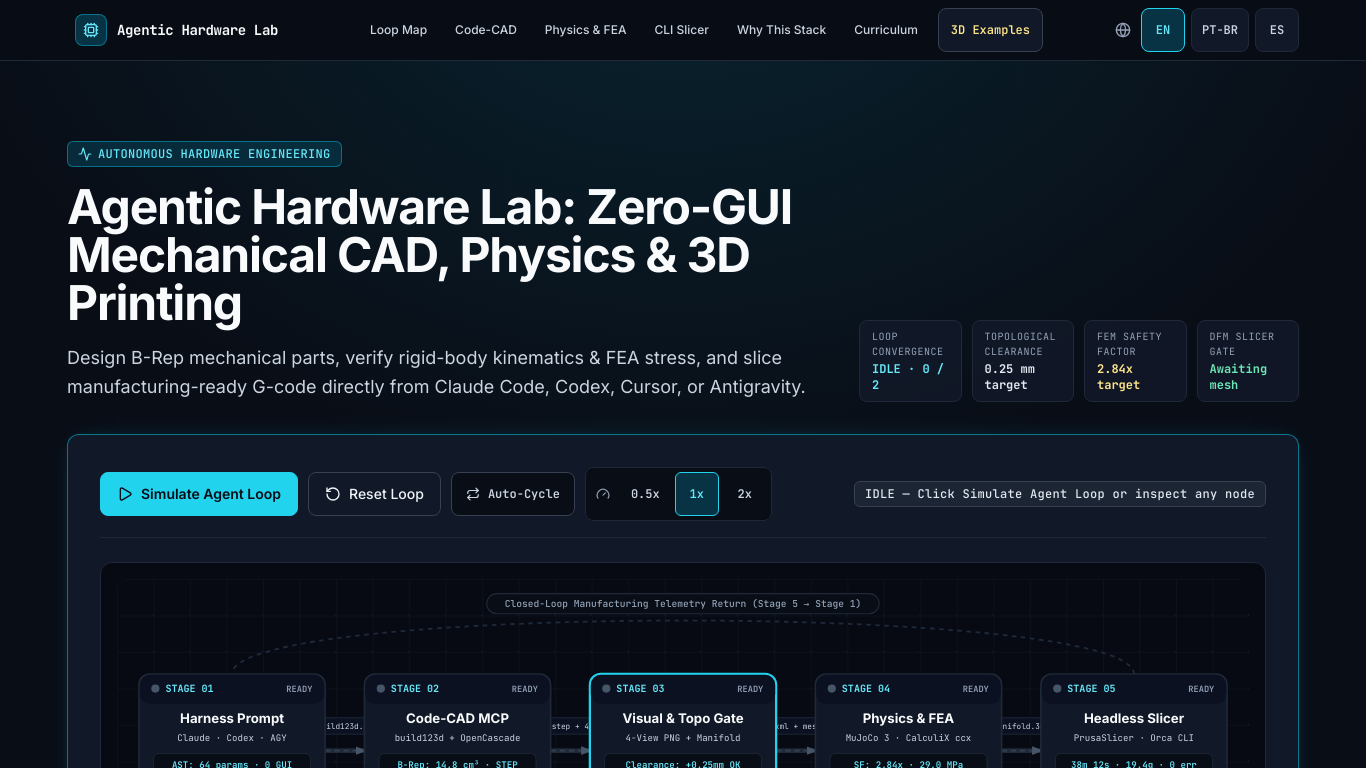
Test: Lab interactive modules › renders full App with lazy-loaded sections and navigates between Lab and Examples
This screenshot has width=1366, height=768.
# Navigate to 3D Examples
Click the button "3D Examples": (990, 30) [938, 8, 1043, 52]
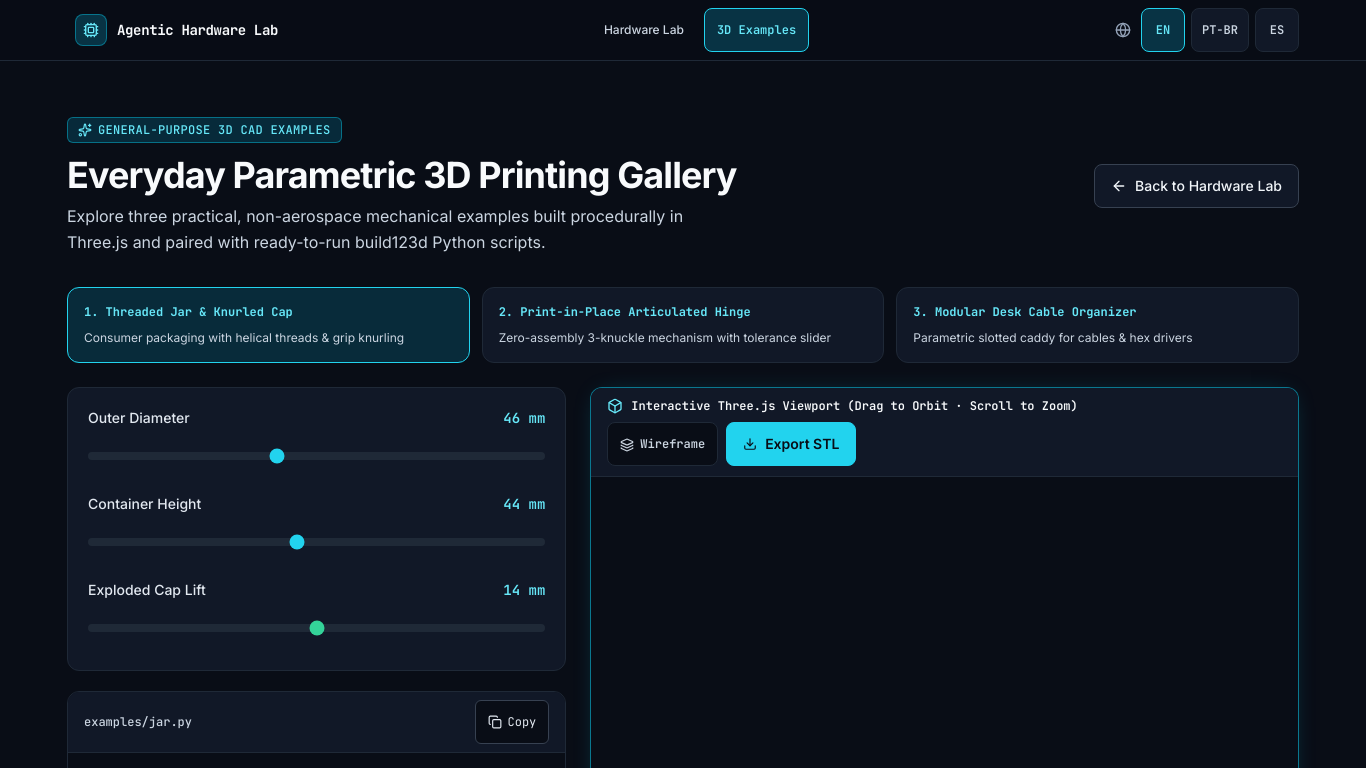
Now the heading "Everyday Parametric 3D Printing Gallery" is shown, box [67, 155, 739, 195]
# Navigate back via brand header button
Click the button "Agentic Hardware Lab": (176, 30) [67, 8, 286, 52]
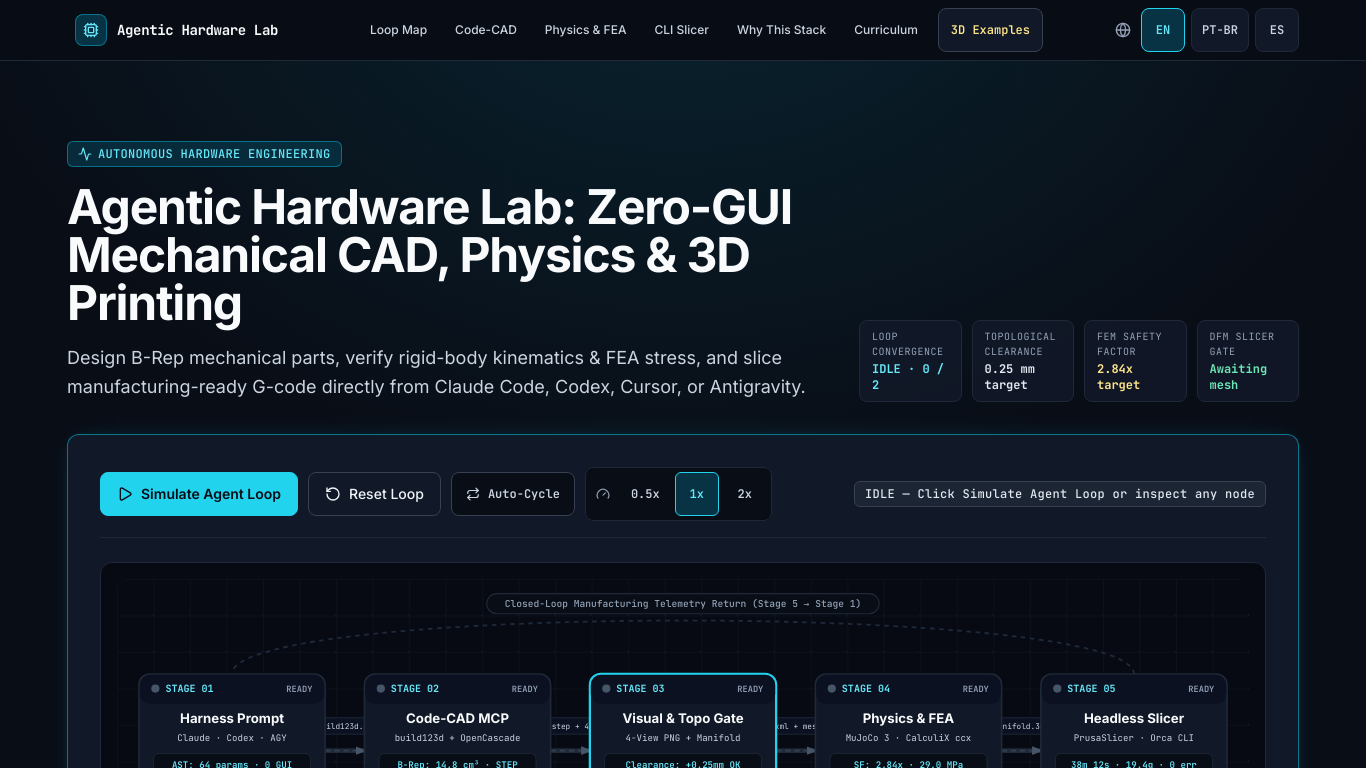
Now the heading "Agentic Hardware Lab: Zero-GUI Mechanical CAD" is shown, box [67, 183, 835, 327]
